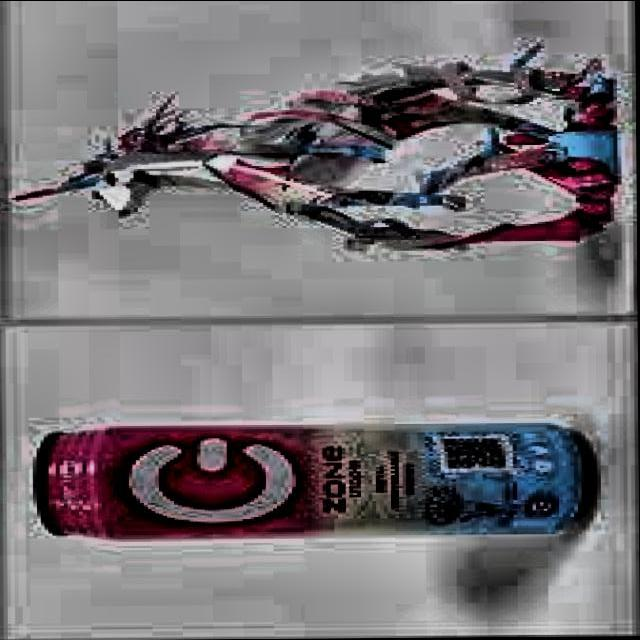litter: (24, 418, 602, 544)
